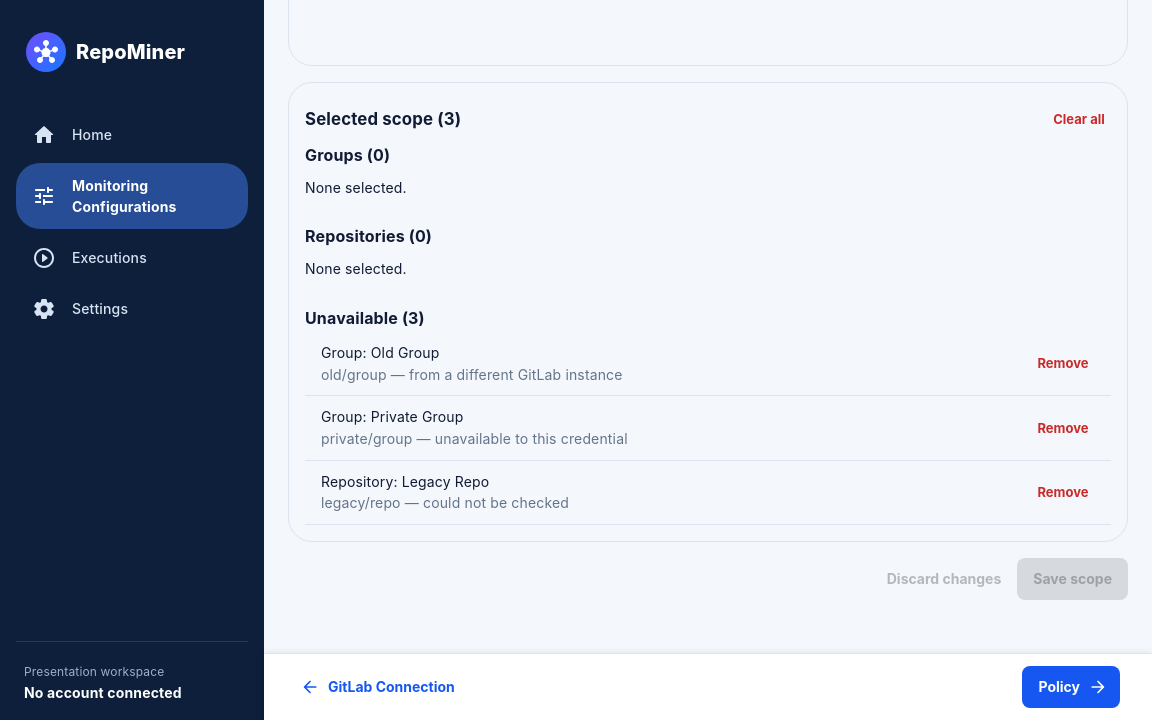
Test: retains stale and unavailable rules in the summary until the user explicitly removes them
(page scrolled)
expect the text "Group: Old Group" is shown: met, box [321, 344, 439, 361]
What coordinates should you click on to do the following:
click the button with aria-label "Remove group Old Group"
I would click on:
 (1063, 364)
Its box is [1031, 343, 1095, 385].
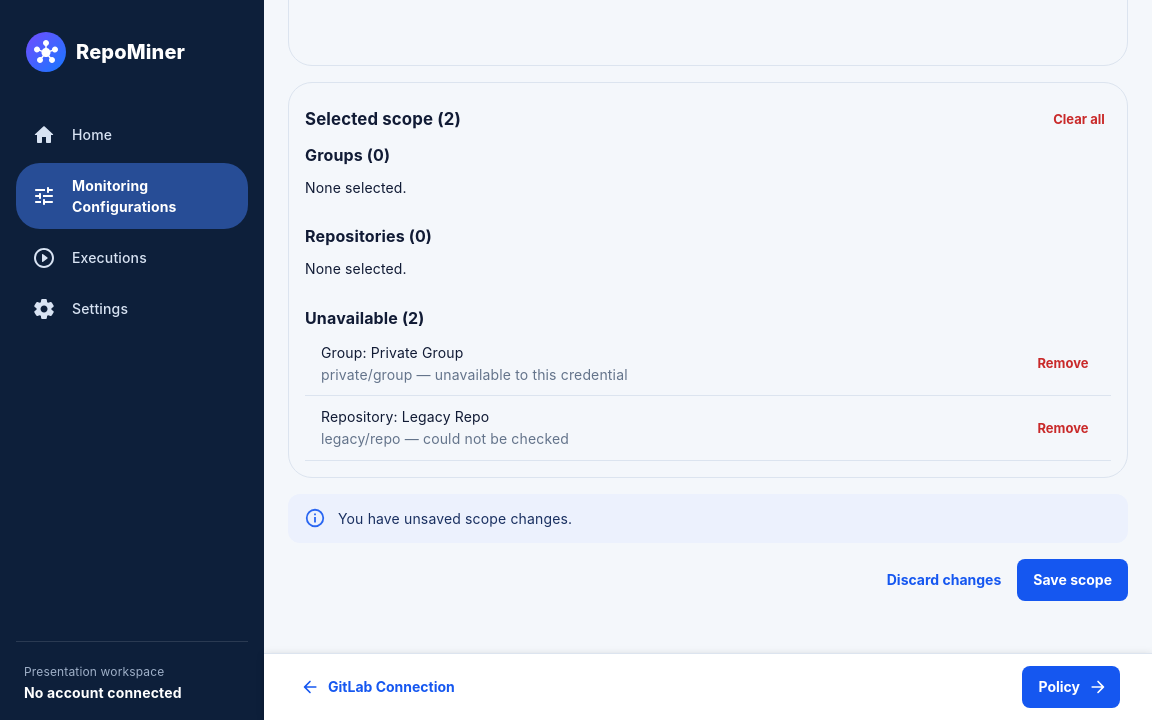
expect the heading "Groups (0)" is shown: met, box [305, 145, 390, 165]
expect the text "Group: Old Group" is gone: met
expect the heading "Unavailable (2)" is shown: met, box [305, 308, 424, 328]
